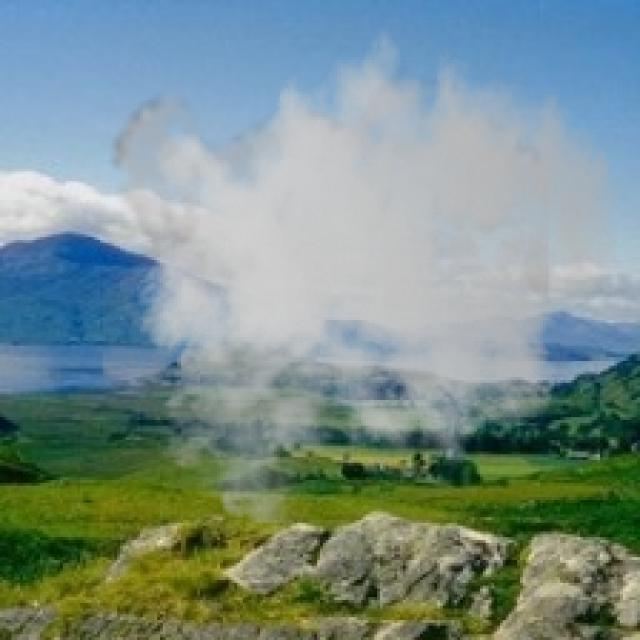smoke: (103, 6, 620, 523)
